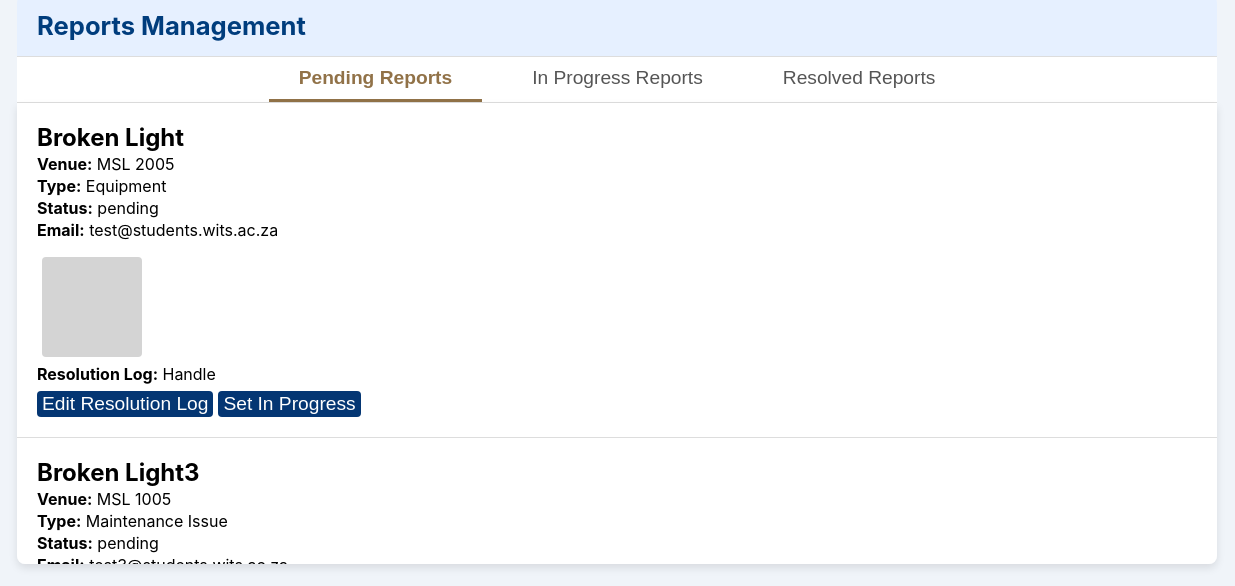
Test: ManageReports Component - Set Report to In Progress › saves edited resolution log and updates the UI
The width and height of the screenshot is (1235, 586).
# Click "Edit Resolution Log" for the first report
Click the button "Edit Resolution Log" at [125, 404], box [37,391,213,417]
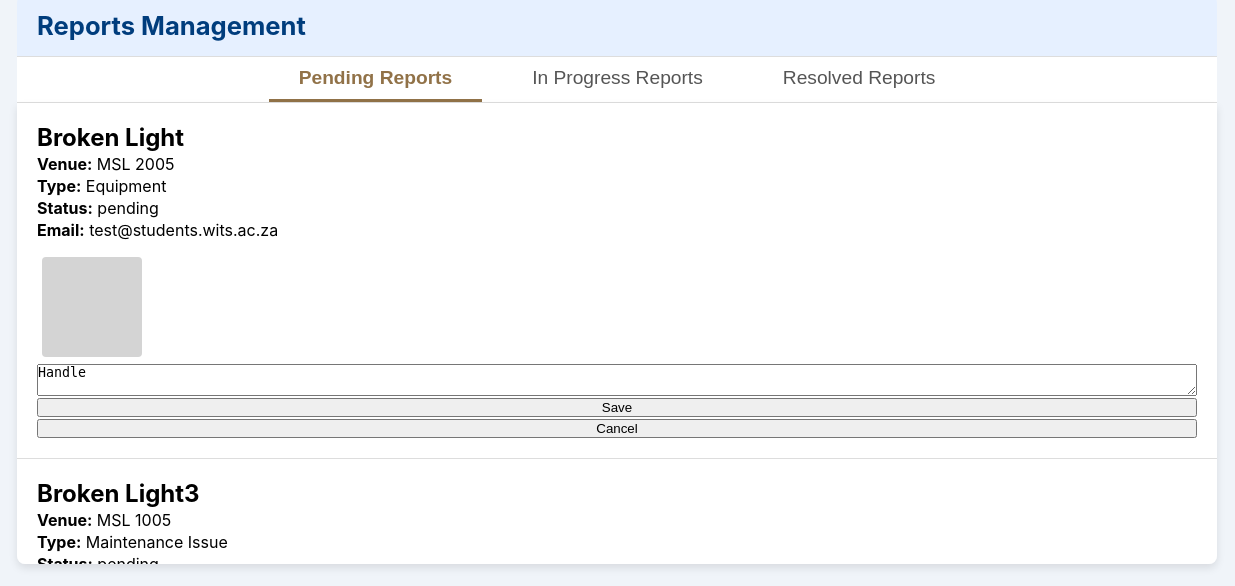
# Simulate entering new resolution log text
Replace the text in the text box with "New resolution log" at [617, 380], box [37,364,1197,396]
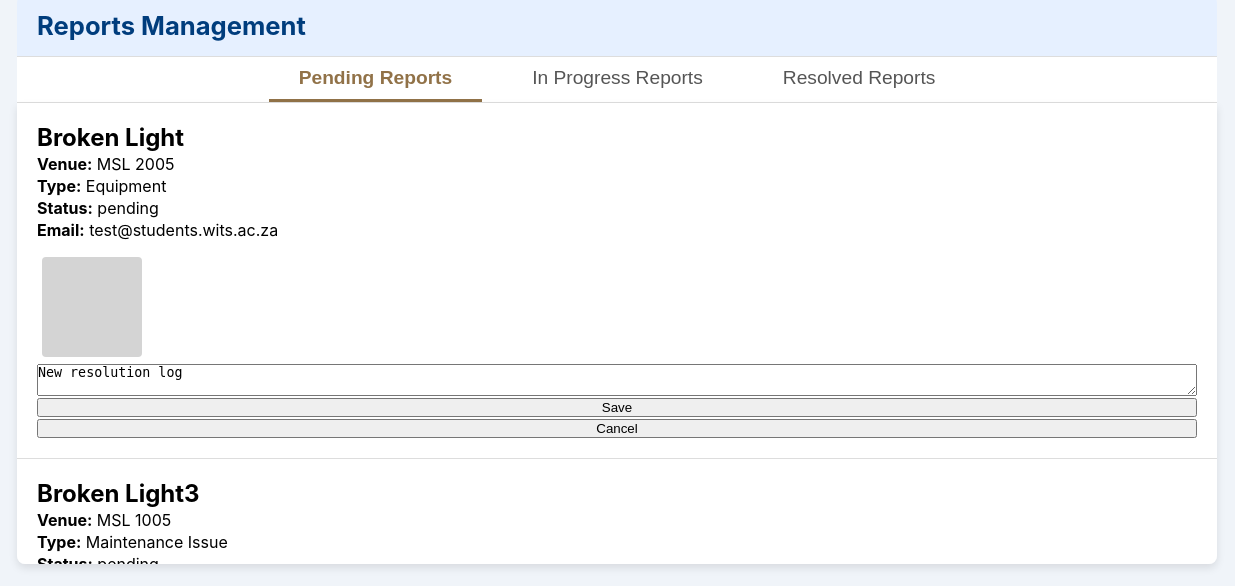
# Save the new resolution log
Click the button "Save" at [617, 408], box [37,398,1197,417]
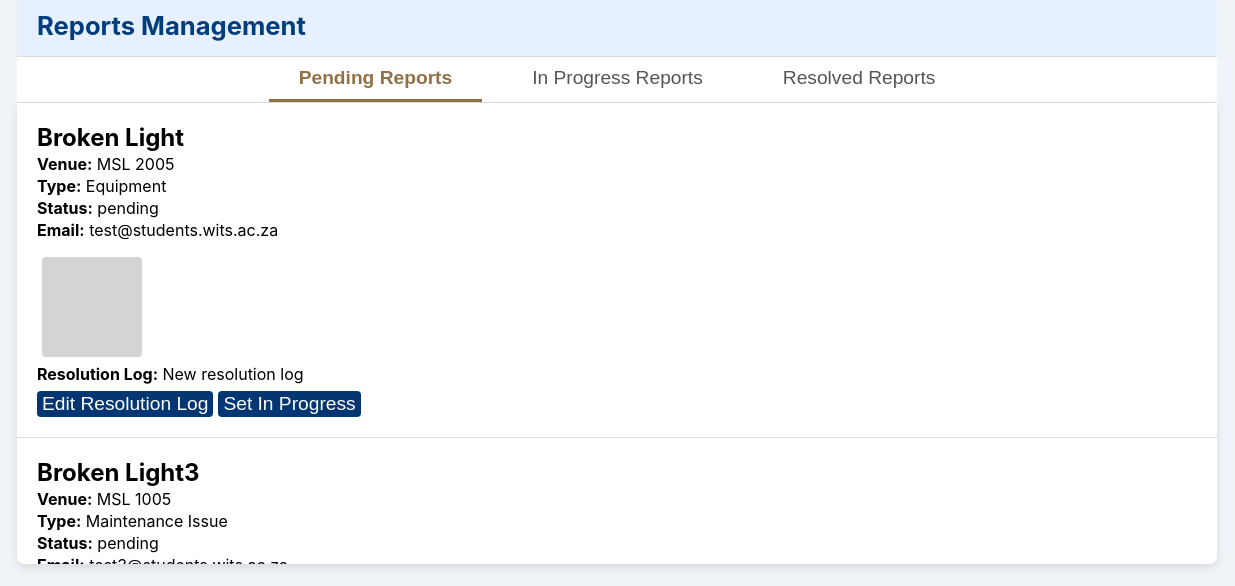
Check: the text "New resolution log" is shown, box [162,364,304,384]
